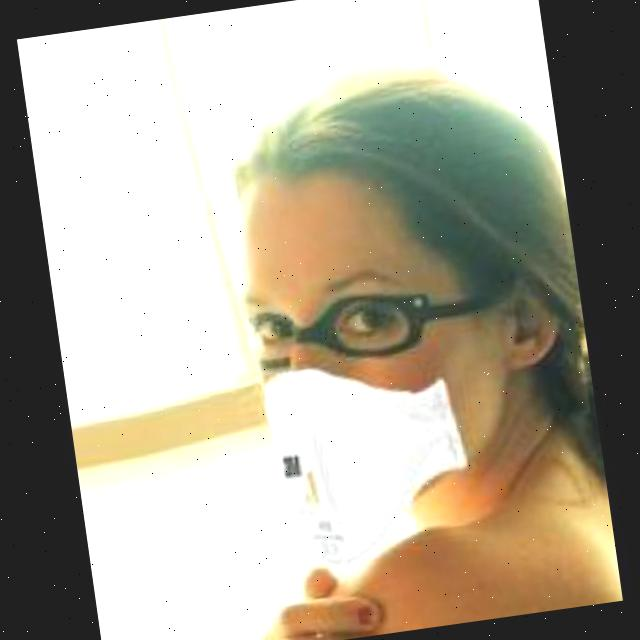suspicion: (222, 123, 548, 553)
